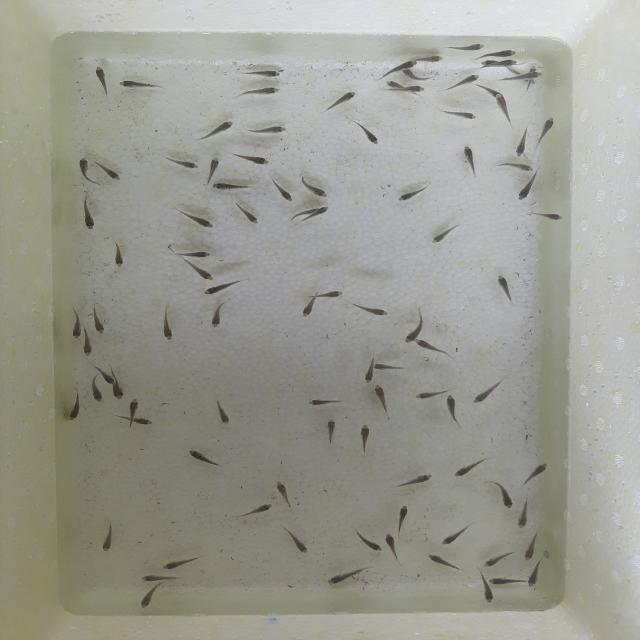fingerling: (152, 308, 180, 343), (199, 118, 237, 141), (74, 200, 100, 233), (427, 552, 466, 574), (208, 401, 240, 426), (177, 210, 216, 230), (87, 304, 112, 335), (352, 122, 386, 144), (296, 176, 330, 198), (188, 444, 214, 472), (233, 201, 262, 226), (400, 471, 438, 490), (326, 568, 366, 586), (514, 498, 535, 532), (326, 89, 357, 112), (200, 155, 226, 182), (452, 461, 486, 481), (97, 523, 118, 555), (415, 339, 452, 357), (443, 395, 465, 425), (247, 499, 280, 519), (271, 480, 296, 506), (444, 72, 480, 90), (394, 186, 430, 204), (283, 529, 310, 553), (522, 562, 546, 589), (473, 381, 501, 404), (494, 482, 517, 510), (524, 460, 550, 484), (238, 85, 282, 99), (436, 528, 464, 550), (457, 146, 481, 171), (383, 532, 403, 562), (477, 574, 497, 604), (118, 79, 164, 92), (350, 535, 383, 553), (201, 281, 238, 297), (230, 153, 272, 167), (90, 365, 118, 386), (443, 40, 488, 53), (160, 155, 199, 170), (67, 393, 85, 425), (514, 177, 537, 202), (270, 180, 296, 202), (138, 585, 160, 611), (478, 550, 508, 569), (540, 112, 557, 145), (492, 271, 512, 299), (94, 65, 110, 99), (97, 162, 124, 182), (186, 265, 218, 281), (427, 226, 455, 244), (76, 153, 94, 181), (209, 180, 250, 192), (310, 288, 347, 301), (354, 303, 391, 316), (355, 424, 375, 448), (373, 384, 390, 412), (243, 126, 289, 136), (393, 504, 412, 528), (415, 388, 445, 403), (158, 558, 195, 570), (69, 311, 85, 338), (86, 388, 108, 407), (110, 240, 126, 266), (513, 132, 529, 157), (494, 161, 534, 171), (124, 398, 144, 418), (112, 417, 156, 426), (209, 300, 223, 328), (496, 94, 511, 120), (404, 323, 420, 347), (325, 418, 341, 442), (441, 111, 479, 121), (306, 398, 344, 408), (238, 71, 284, 79), (174, 249, 214, 258), (523, 536, 538, 560), (363, 358, 376, 385), (482, 48, 517, 58), (487, 575, 525, 584), (534, 212, 568, 222), (140, 574, 180, 582), (506, 72, 541, 81), (298, 302, 316, 319), (479, 83, 500, 97), (373, 363, 405, 372), (399, 85, 425, 96), (389, 61, 415, 71), (406, 70, 432, 80), (79, 338, 93, 356), (314, 204, 329, 220), (420, 54, 446, 63), (111, 385, 125, 401), (292, 208, 314, 218), (383, 80, 404, 88), (499, 60, 517, 68), (478, 61, 498, 65)
